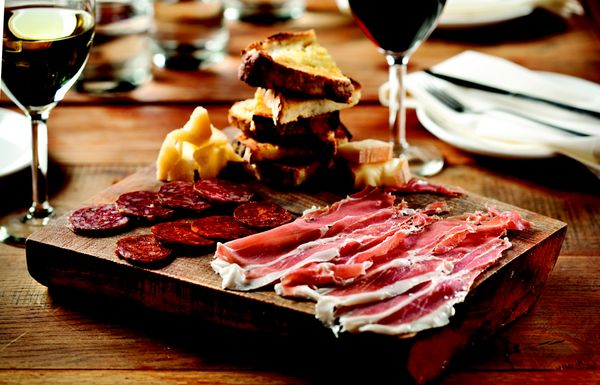sandwich: (424, 49, 599, 117)
soup: (227, 28, 364, 190)
